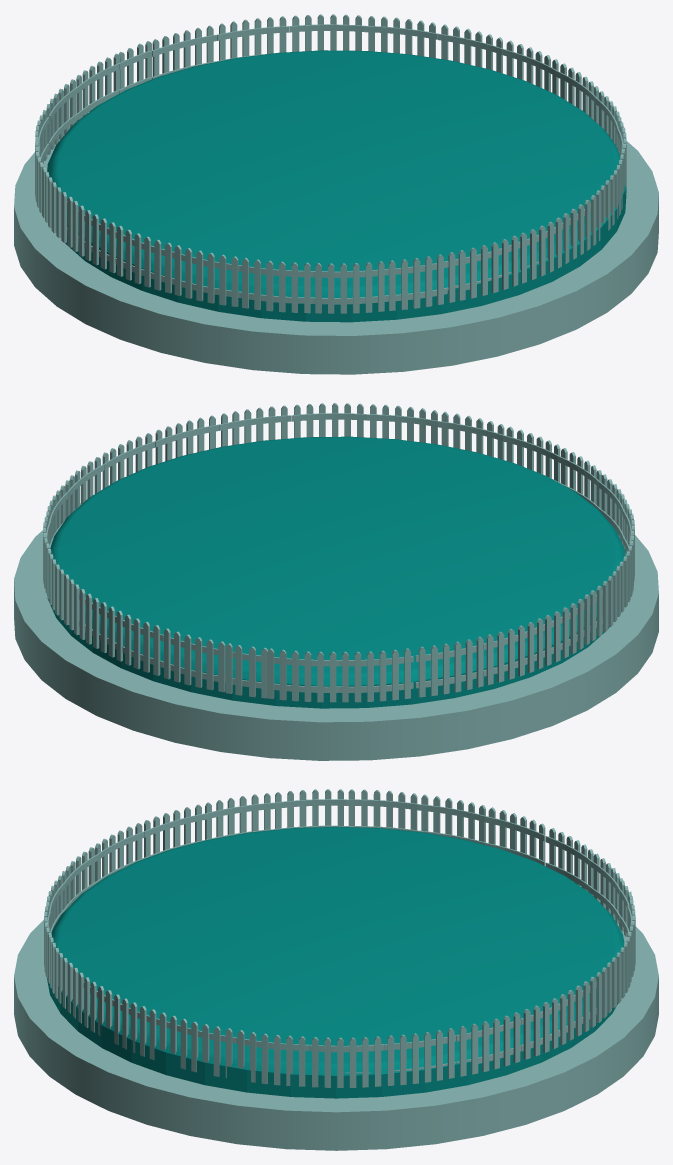
File: Platform.fbx
The picture shows the model from 3 angles, top to bottom: view 1: azimuth 30°, elevation 25°; view 2: azimuth 150°, elevation 25°; view 3: azimuth 270°, elevation 25°; orthographic projection.
Visible parts, largest first — view 1: Object026, Object003; view 2: Object026, Object003; view 3: Object026, Object003.
Boxes of the visible parts, x1,y1,x2,y2 form: Object026: (47,50,626,322); Object003: (14,14,658,374); Object026: (47,436,625,708); Object003: (14,403,658,760); Object026: (47,826,624,1098); Object003: (14,789,658,1150).
Bounding box in the file's own units: 169 × 28.51 × 169.
